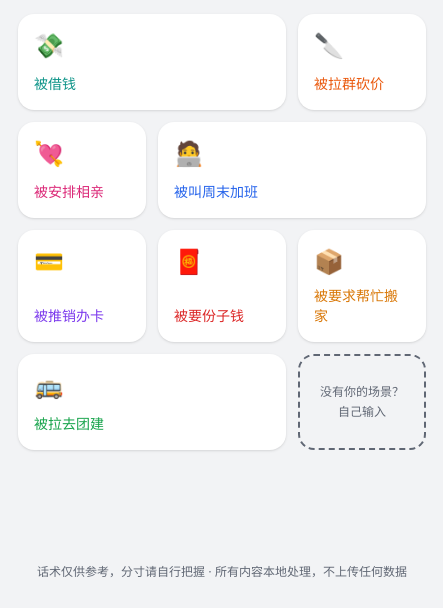
App › 选语气：上报 tone_selected、出 3 条话术并报 generate
The width and height of the screenshot is (443, 608).
Step 1. Click the button "💸 被借钱" → (55, 84), box [18,14,286,110]
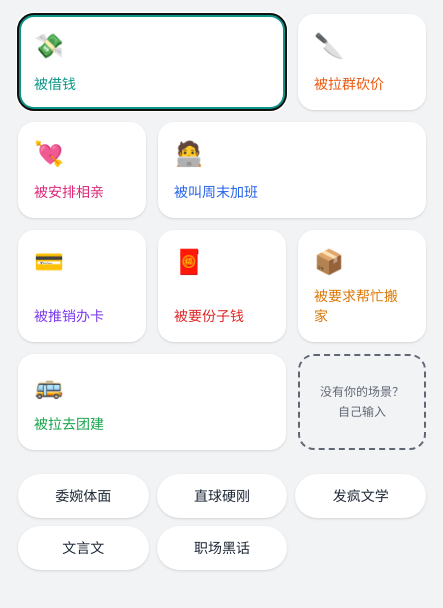
Step 2. Click the button "直球硬刚" → (222, 496), box [157,474,287,518]
(page scrolled)
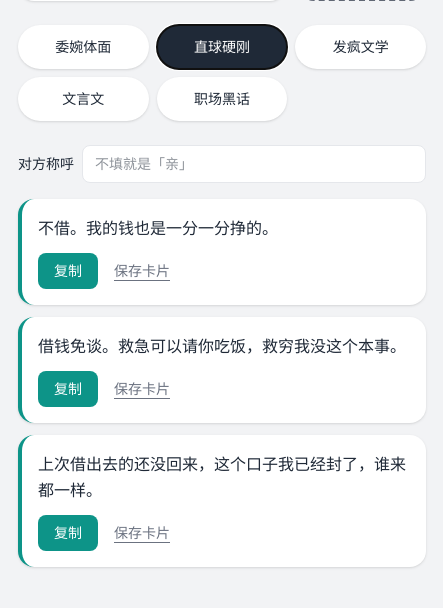
Expected: the text "不借。我的钱也是一分一分挣的。" is shown, [38,218,278,238]
Expected: the number of buttons "复制" is 3, [38,253,98,289]; [38,371,98,407]; [38,515,98,551]
Expected: the number of buttons "保存卡片" is 3, [114,261,170,281]; [114,379,170,399]; [114,523,170,543]
